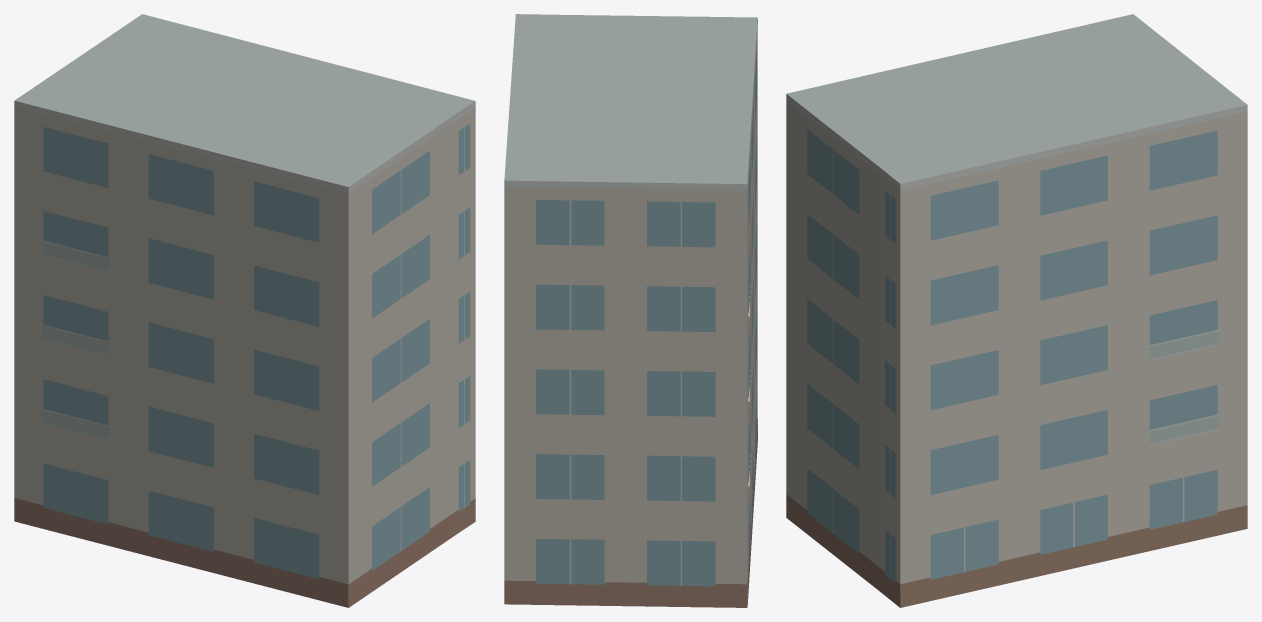
File: survey-upis-32884345.glb
3 views of the same model, side by side, from view 1: azimuth 30°, elevation 25°; view 2: azimuth 150°, elevation 25°; view 3: azimuth 270°, elevation 25° (orthographic).
Visible parts, largest first — view 1: survey-upis-32884345.tmp; view 2: survey-upis-32884345.tmp; view 3: survey-upis-32884345.tmp.
Boxes of the visible parts, x1=… form: survey-upis-32884345.tmp: x1=14, y1=14, x2=475, y2=607; survey-upis-32884345.tmp: x1=504, y1=14, x2=757, y2=607; survey-upis-32884345.tmp: x1=786, y1=14, x2=1247, y2=607.
Size of the model in its own units: 13.25 by 15.4 by 15.2.
